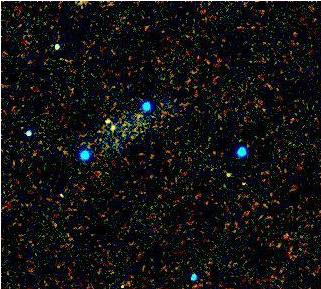star: (93, 111, 123, 141)
